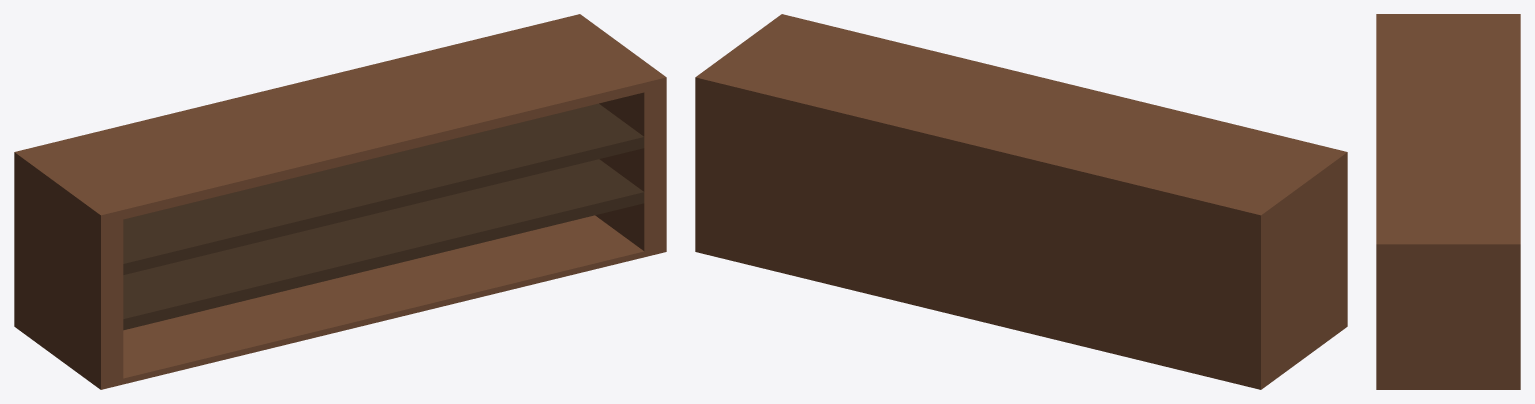
File: TVStand.fbx
3 views of the same model, side by side, from view 1: azimuth 30°, elevation 25°; view 2: azimuth 150°, elevation 25°; view 3: azimuth 270°, elevation 25° (orthographic). The views are drawn at different scales.
Visible parts, largest first — view 1: TVStand; view 2: TVStand; view 3: TVStand.
Boxes of the visible parts, box(x1,y1,x2,y2) form: TVStand: box(14, 14, 666, 389); TVStand: box(695, 14, 1347, 389); TVStand: box(1376, 14, 1520, 389).
Bounding box in the file's own units: 199 × 58.56 × 52.64.
